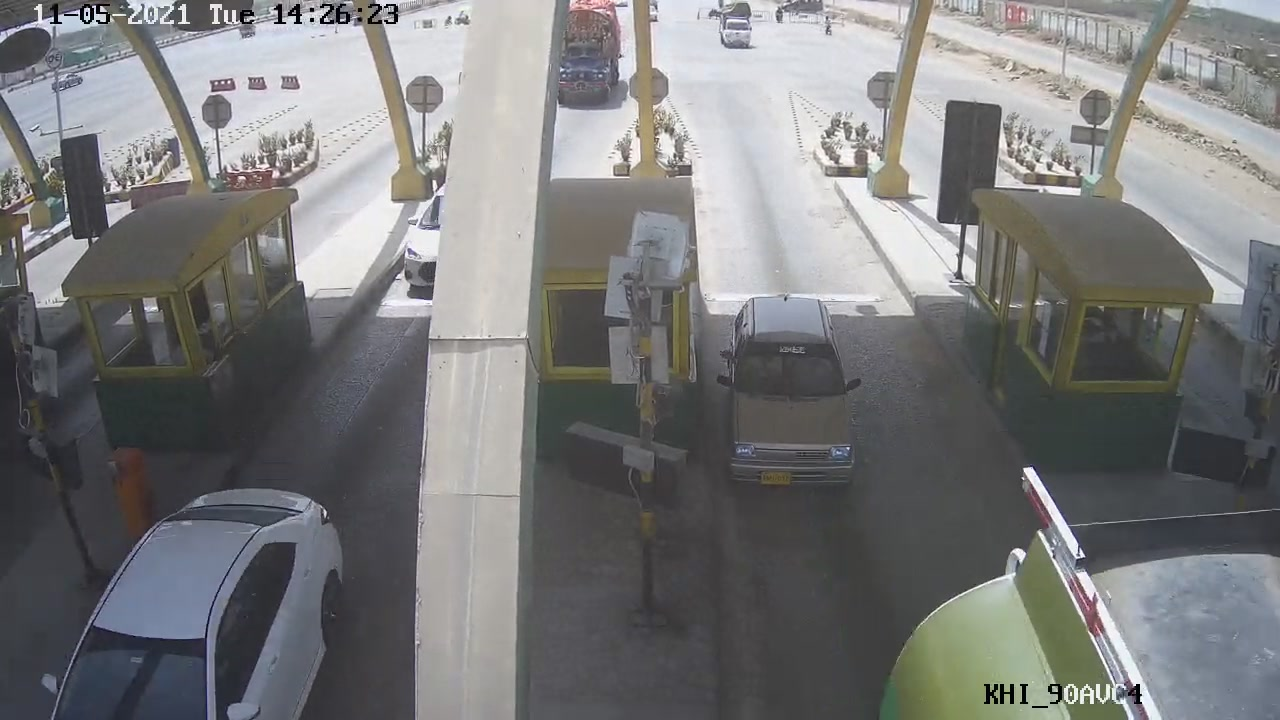F1: (711, 289, 879, 500)
